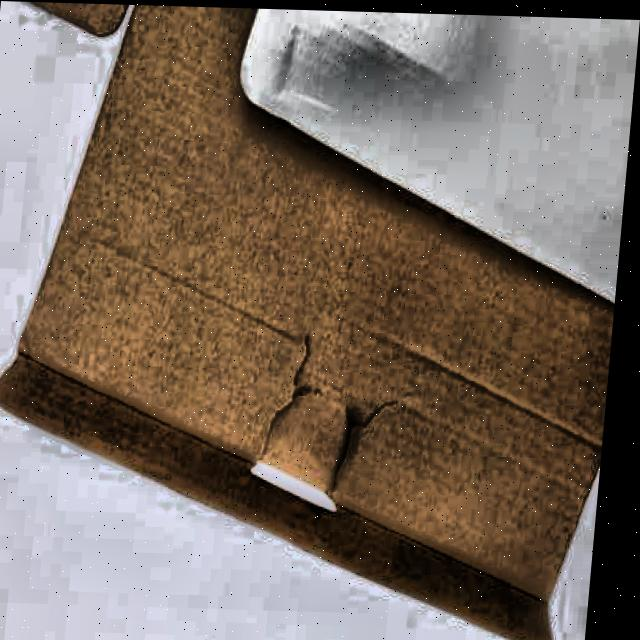cardboard: (0, 1, 640, 640)
